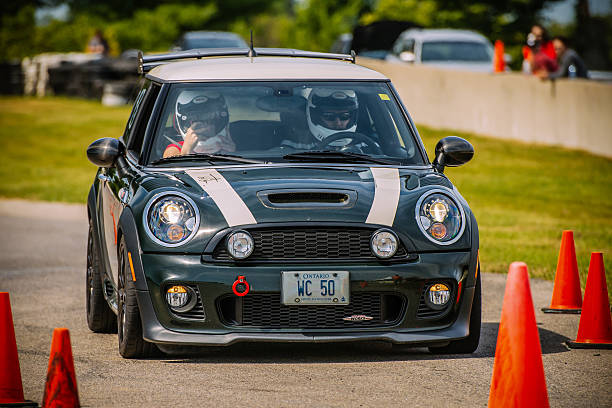licence: (276, 269, 353, 307)
